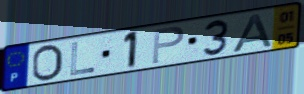1: (121, 29, 140, 70)
3: (201, 18, 231, 58)
A: (230, 12, 276, 54)
L: (69, 40, 97, 77)
O: (30, 43, 65, 84)
P: (150, 24, 187, 65)
